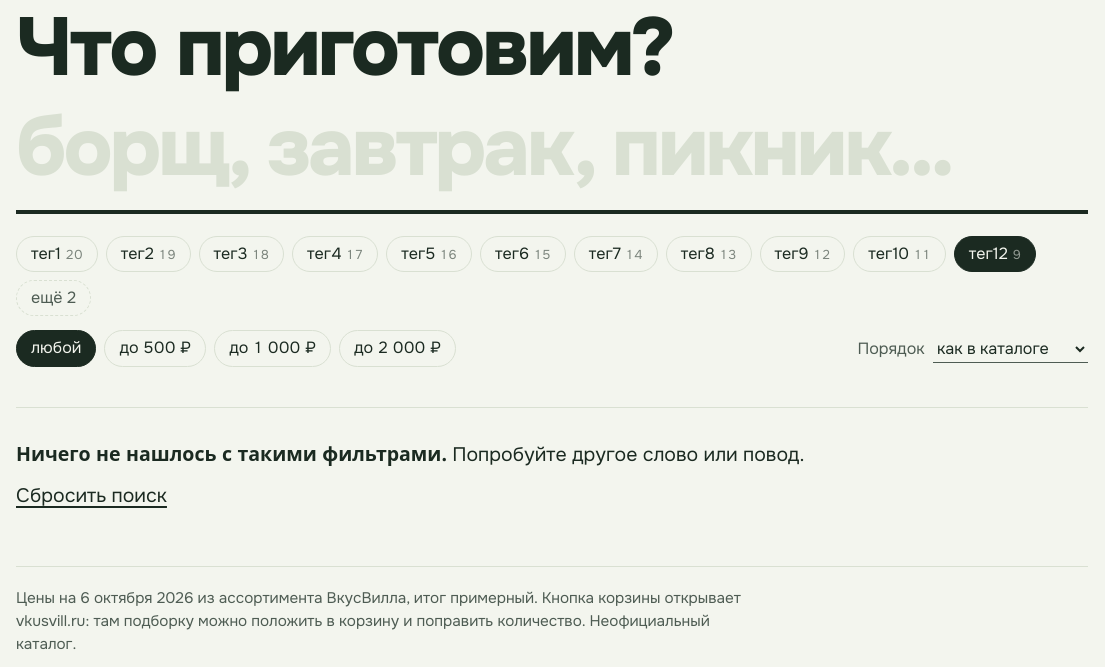
Scenario: App › shows ten most popular tags and hides the rest behind a toggle
Expected: the button "тег13 8" is not shown
Click the button "ещё 2": (54, 298) [16, 280, 91, 316]
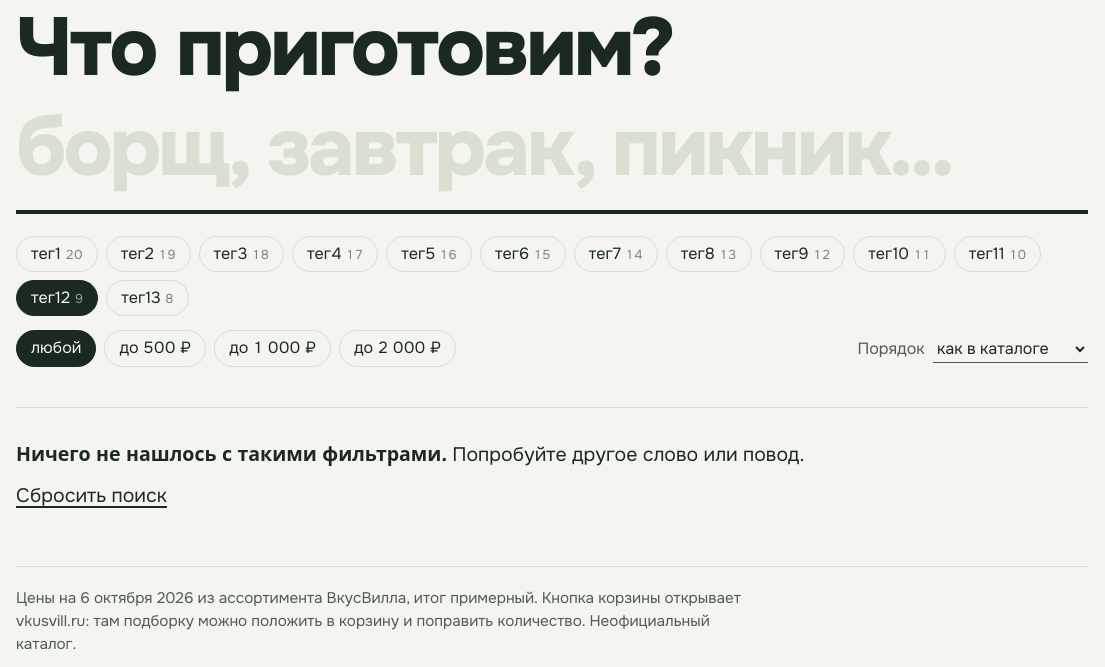
Expected: the button "тег13 8" is shown, [106, 280, 189, 316]
